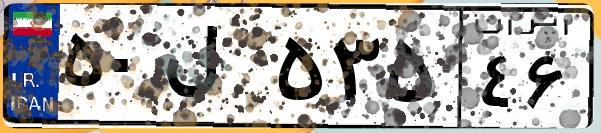0: (110, 28, 158, 98)
3: (330, 28, 385, 110)
4: (475, 38, 525, 113)
5: (270, 28, 330, 110), (385, 28, 445, 110), (57, 26, 110, 100)
6: (525, 38, 570, 115)
ل: (158, 20, 270, 120)
